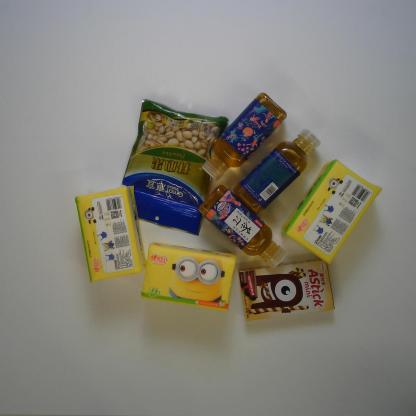Dessert: (238, 259, 336, 321)
Dried Fruit: (119, 99, 229, 236)
Drink: (202, 91, 288, 182), (233, 127, 321, 215), (198, 184, 286, 269)
Tissue: (281, 159, 382, 264), (75, 185, 147, 283), (141, 241, 237, 312)
